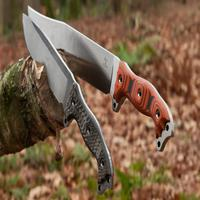knife: (16, 3, 176, 182)
